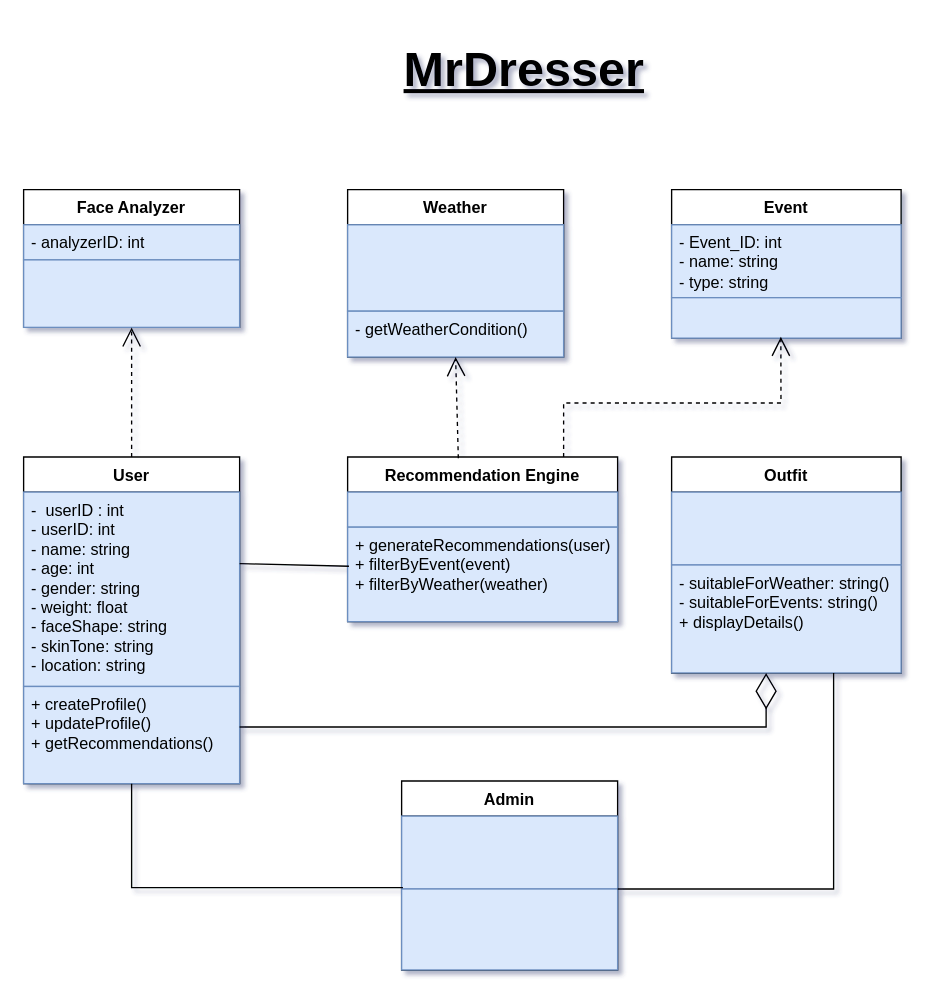
Image size: 933x1004. Some labels were removed from this diagram. The shapes that lost their labels are listed below. From the top down, each one's centre as x and y in pixels, then its label:
At [455,267]: "- weatherID: int - temperature: float - condition: string".
At [131,293]: "+ detectFaceShape(image) + detectSkinTone(image)".
At [785,317]: "+ getEventType()".
At [482,509]: "- engineID: int".
At [785,528]: "- outfit_ID: int - type: string - color: string".
At [509,852]: "- Admin_ID: int - username: string - password: string".
At [509,929]: "+ manageUsers() + updateOutfits() + viewReports()".
